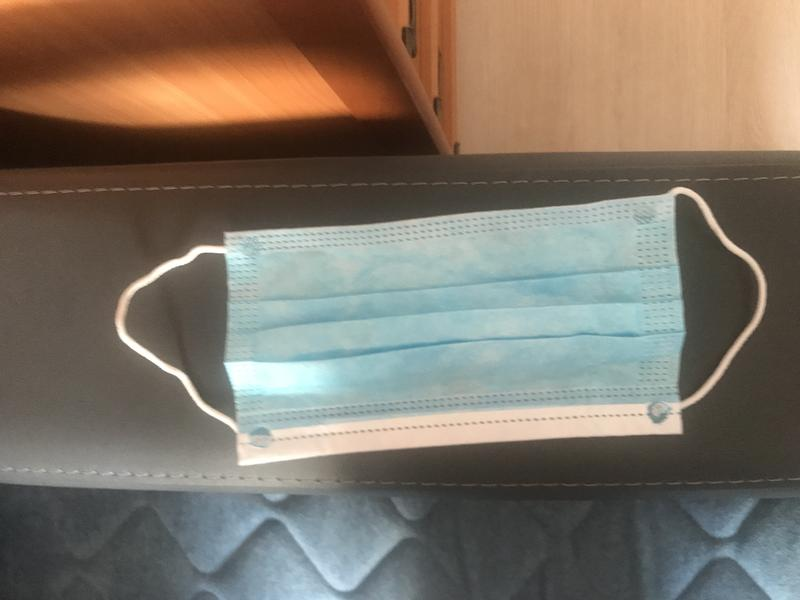medical_mask: (114, 185, 766, 466)
